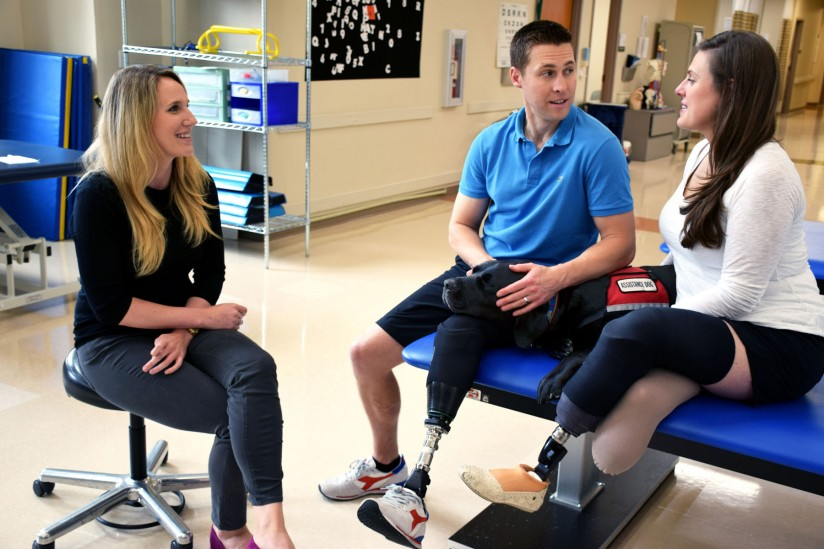Person: (368, 14, 616, 530), (60, 42, 284, 549), (636, 10, 788, 542)
